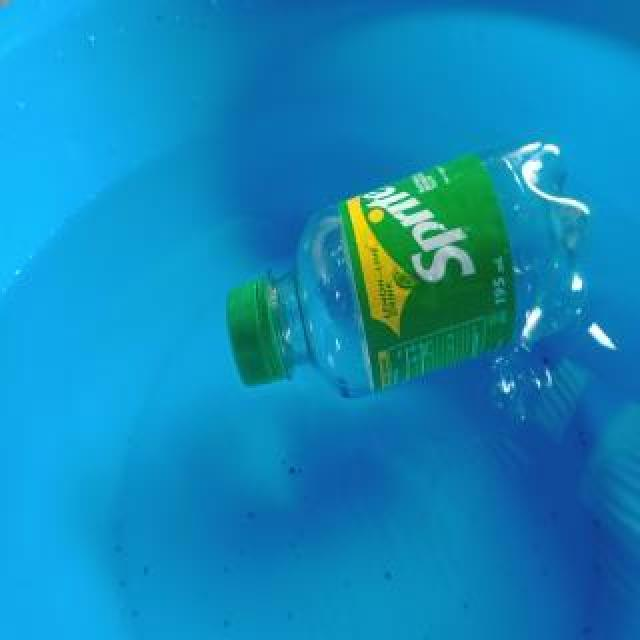bottle: (226, 136, 592, 400)
